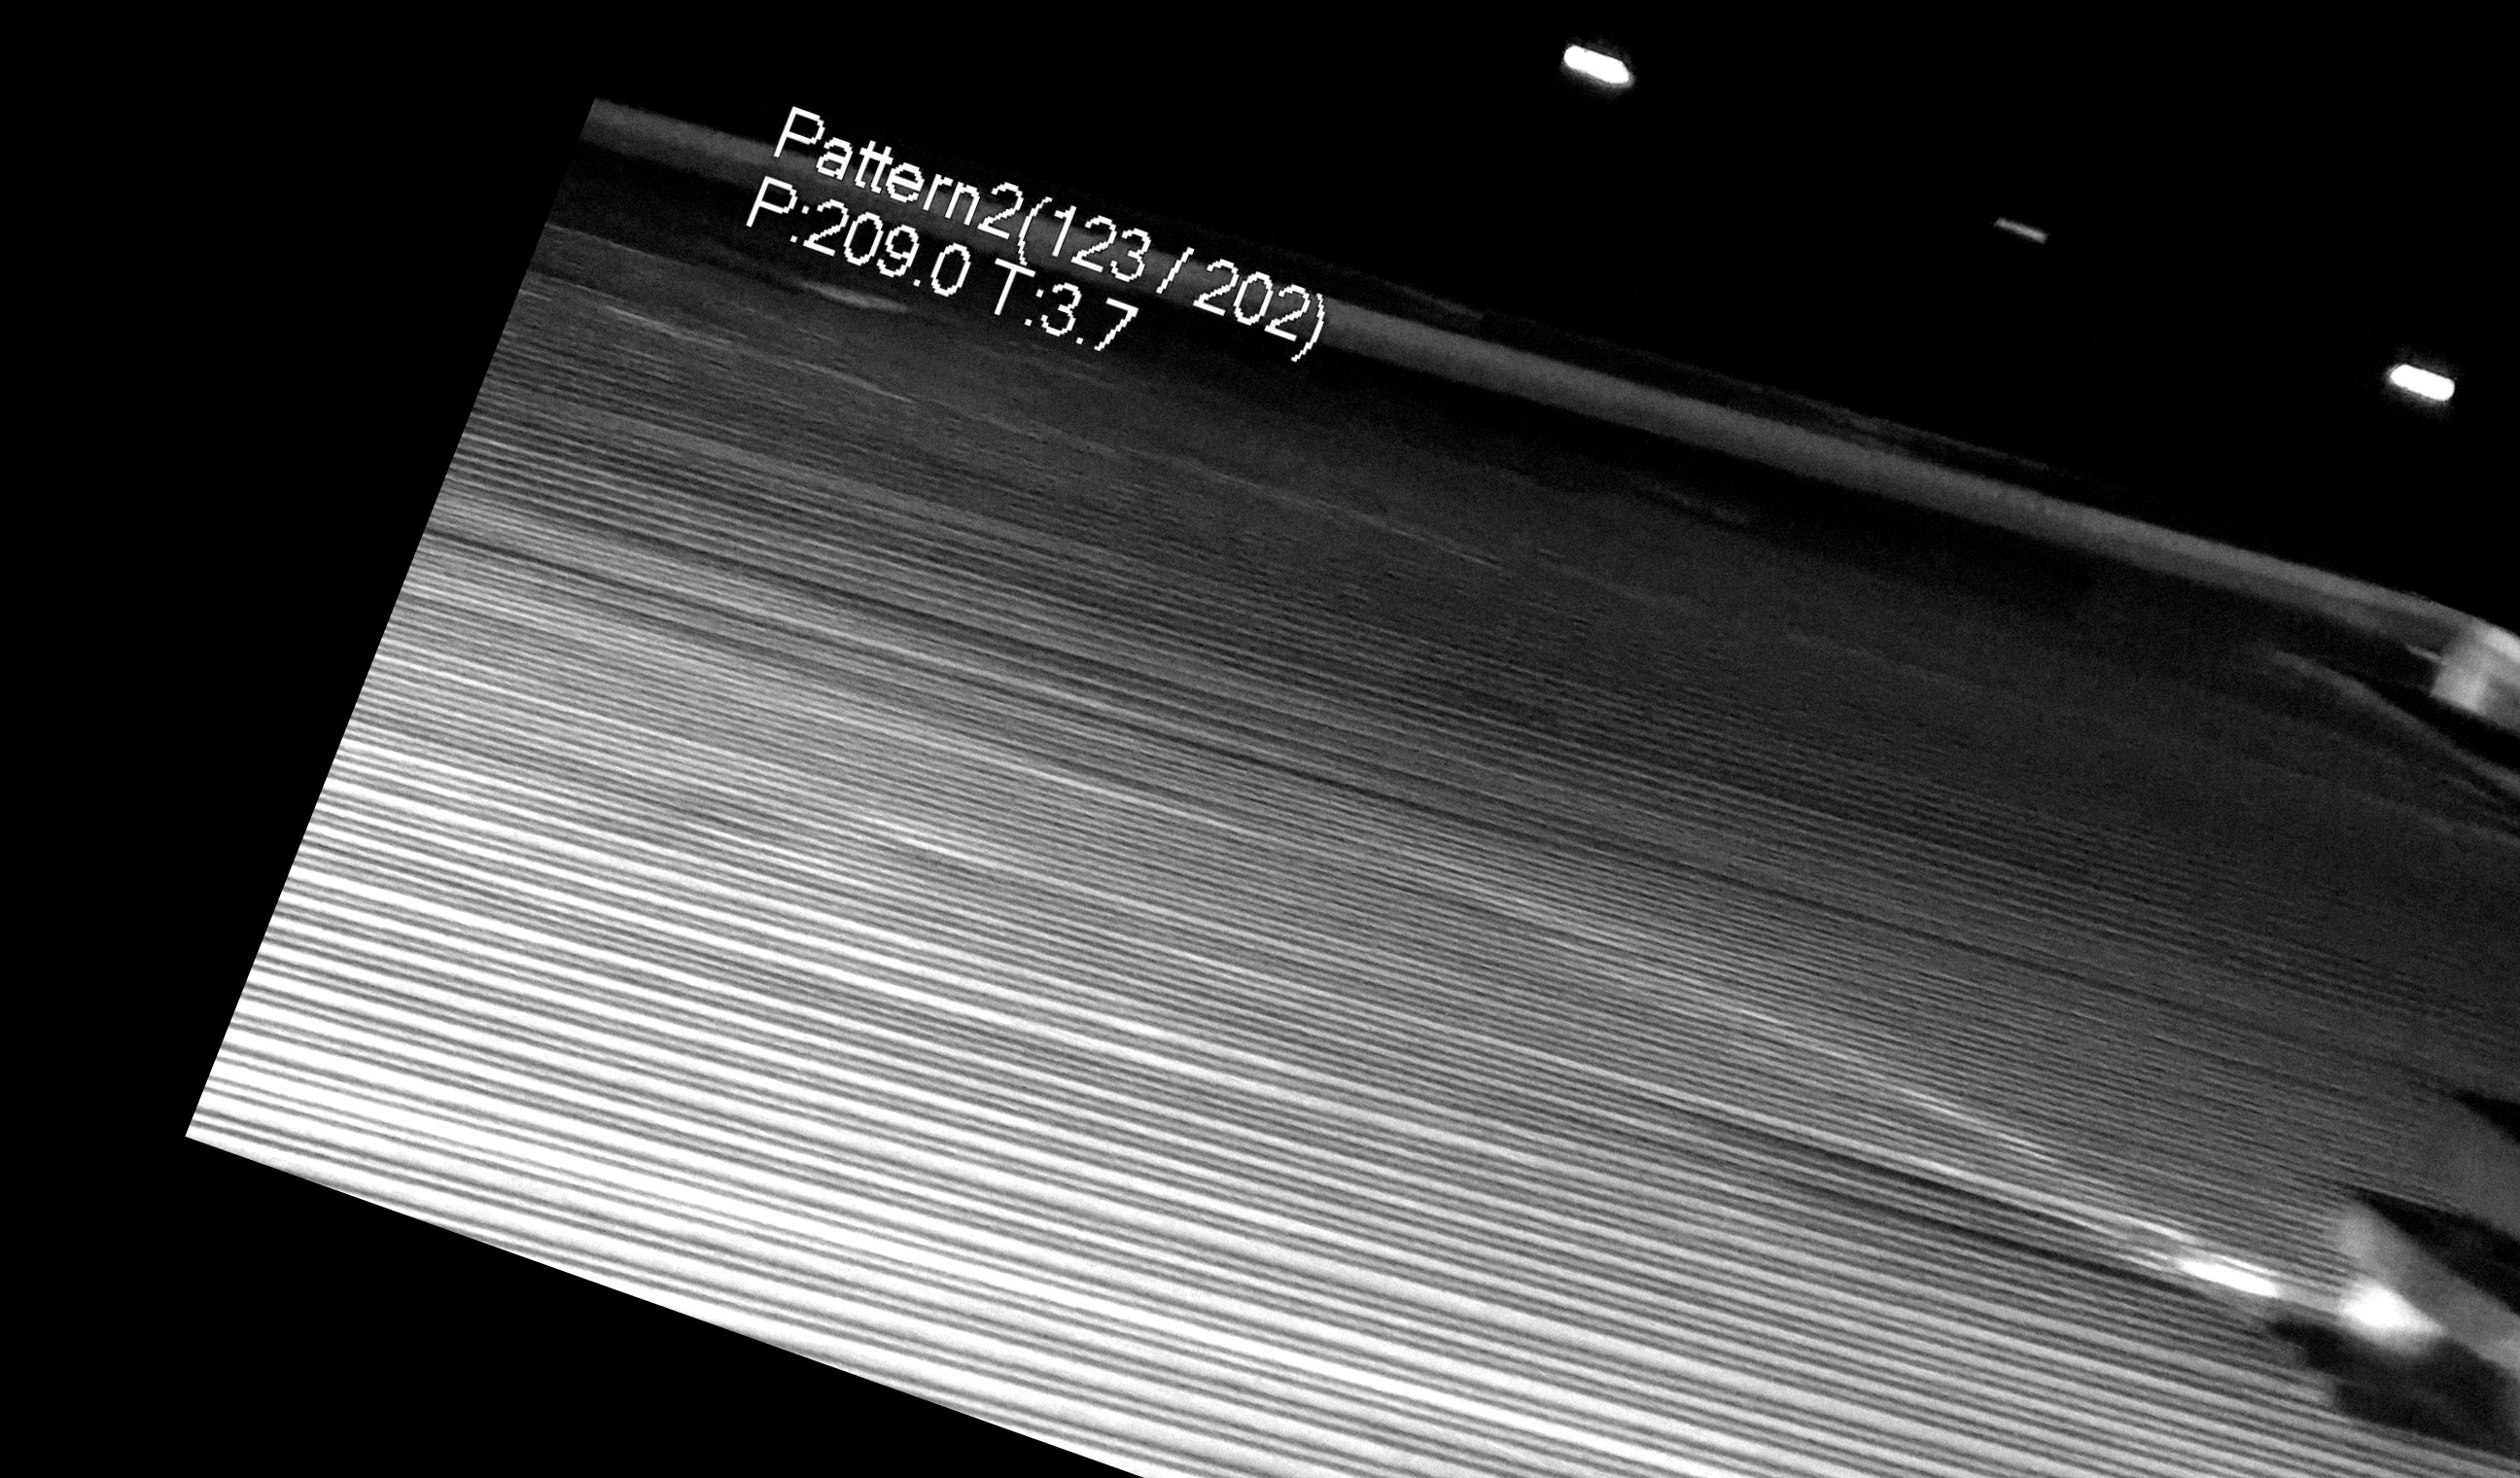Other: (2188, 1131, 2520, 1478)
